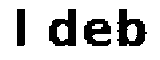b: (116, 4, 149, 51)
d: (41, 5, 78, 49)
e: (82, 17, 113, 49)
l: (9, 2, 34, 52)
